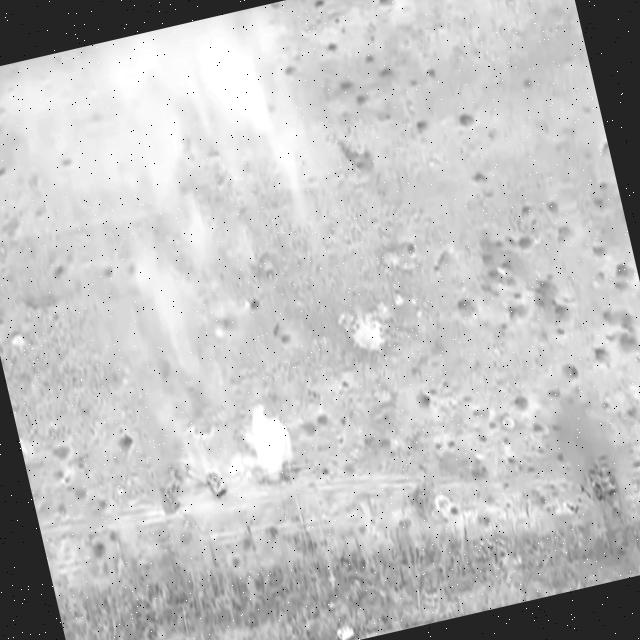MBT: (203, 466, 231, 504)
